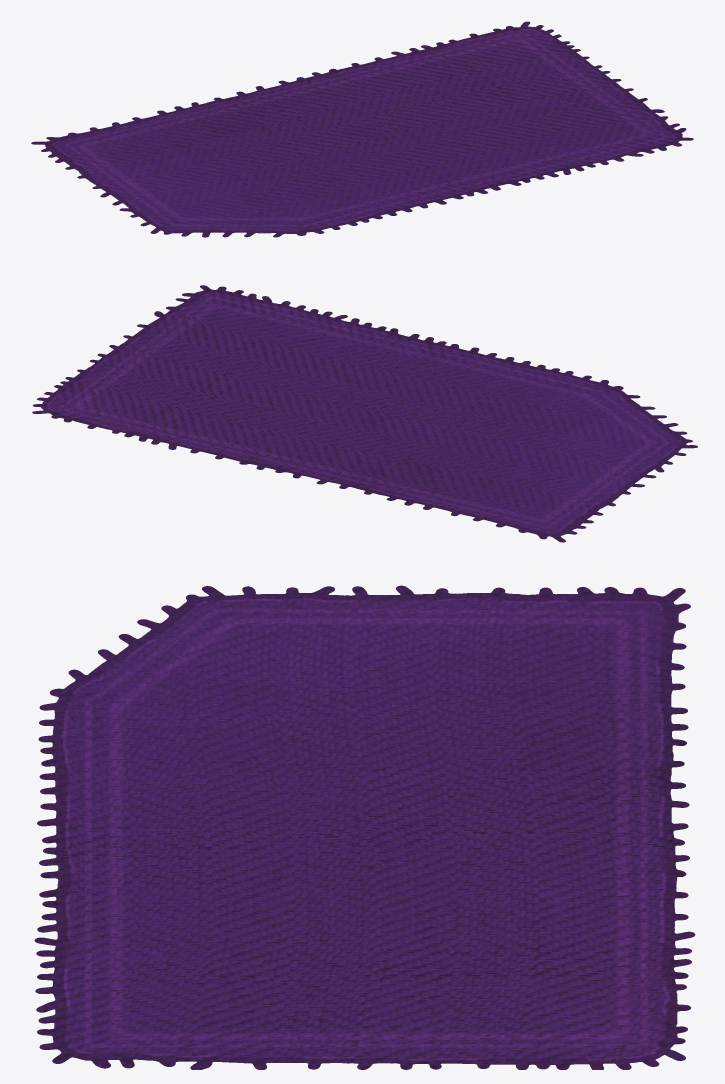
File: tappeto.fbx
3 renders of one model, top to bottom at view 1: azimuth 30°, elevation 25°; view 2: azimuth 150°, elevation 25°; view 3: azimuth 270°, elevation 25°, orthographic. The views are drawn at different scales.
Visible parts, largest first — view 1: Plane; view 2: Plane; view 3: Plane.
Part boxes in pixels (bbox=[...]): Plane: bbox=[31, 21, 693, 237]; Plane: bbox=[32, 285, 697, 542]; Plane: bbox=[34, 585, 695, 1069].
Size of the model in its own units: 2000 by 0.000196 by 1200.
